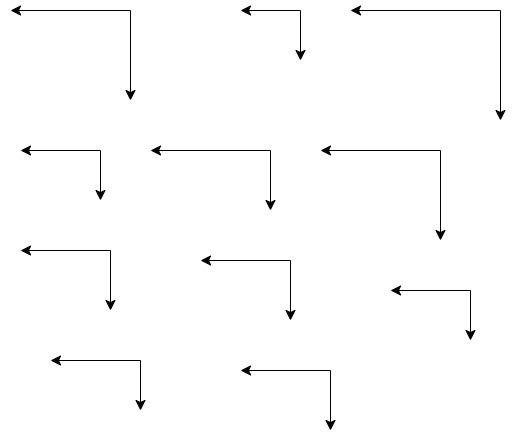bi_horizontal: (347, 1, 507, 123), (319, 143, 449, 242), (7, 4, 139, 101), (148, 143, 278, 212), (19, 240, 118, 313), (200, 252, 300, 323), (240, 362, 340, 431), (50, 352, 148, 412), (388, 282, 477, 342), (21, 144, 108, 204), (238, 2, 308, 60)
